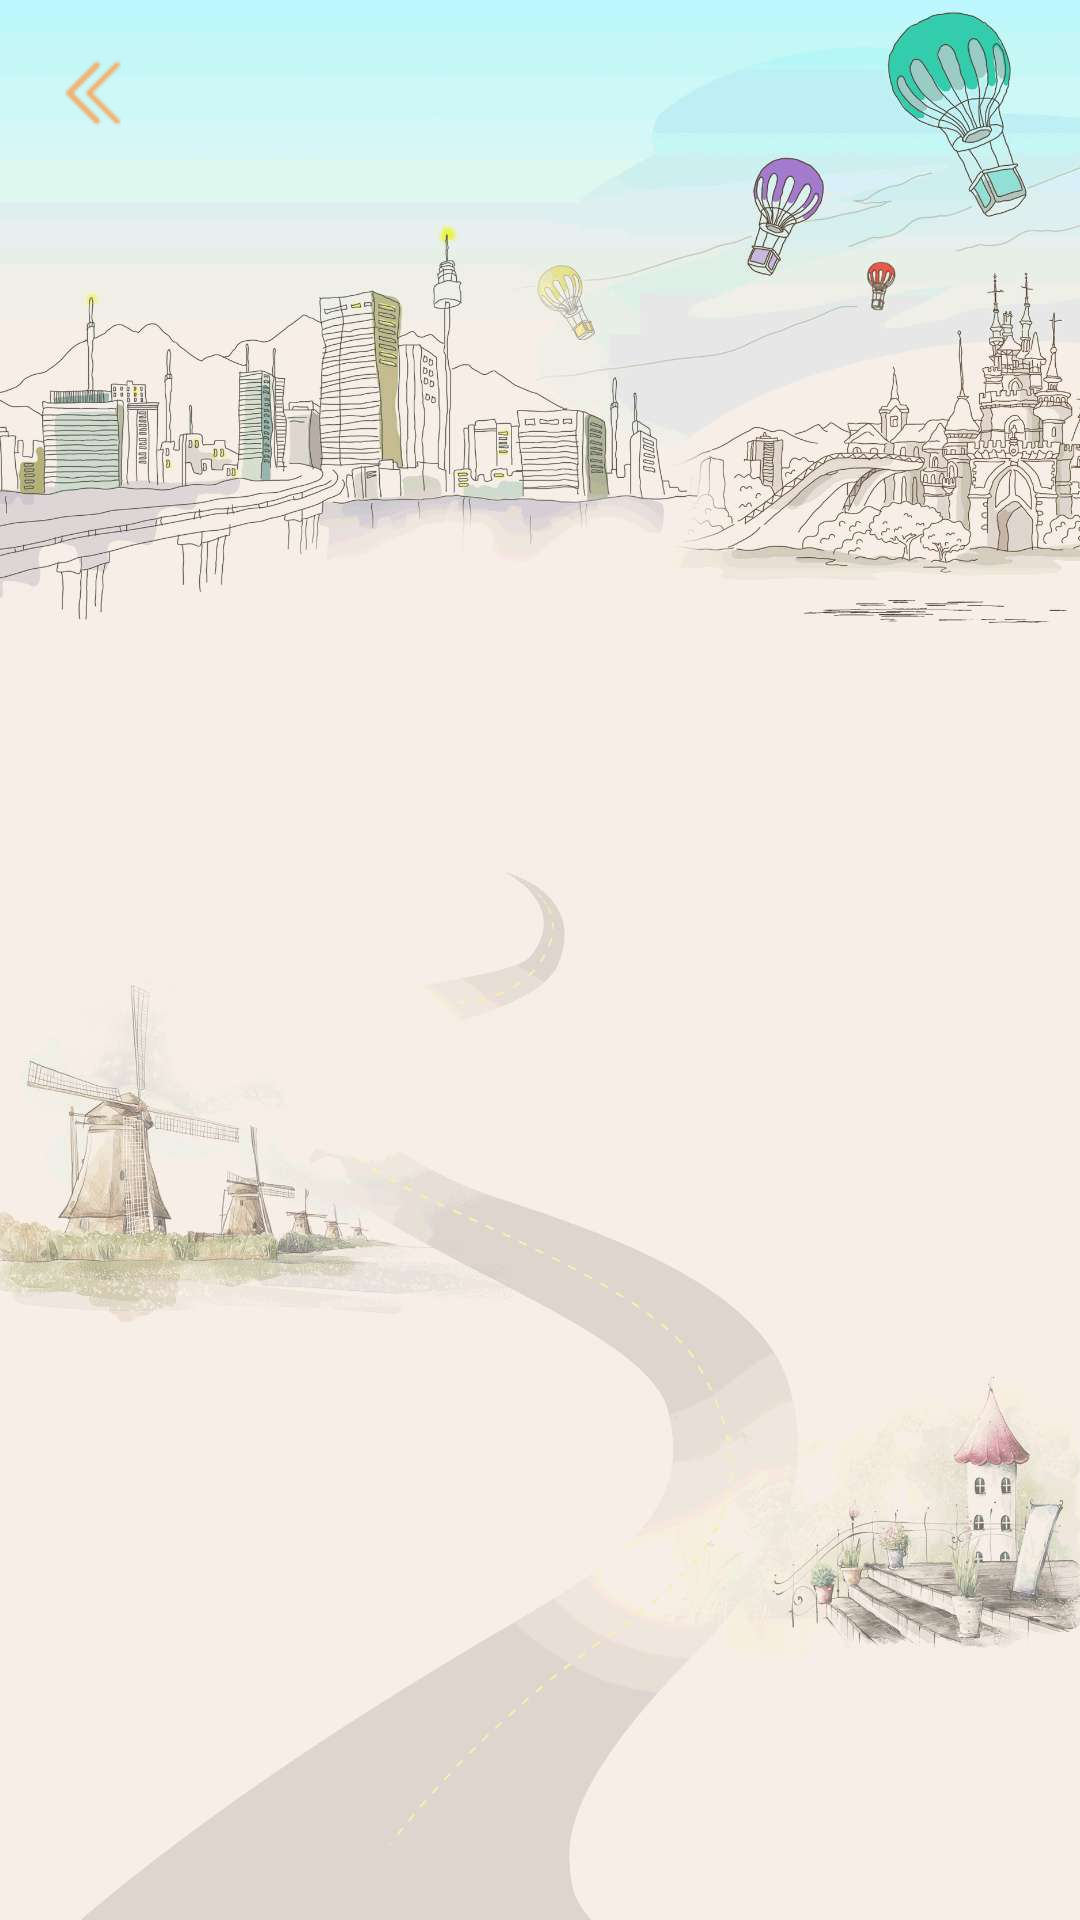

Screen size 1080 x 1920. Icon name, then its center in pixels as (x,y):
left back: (93,100)
